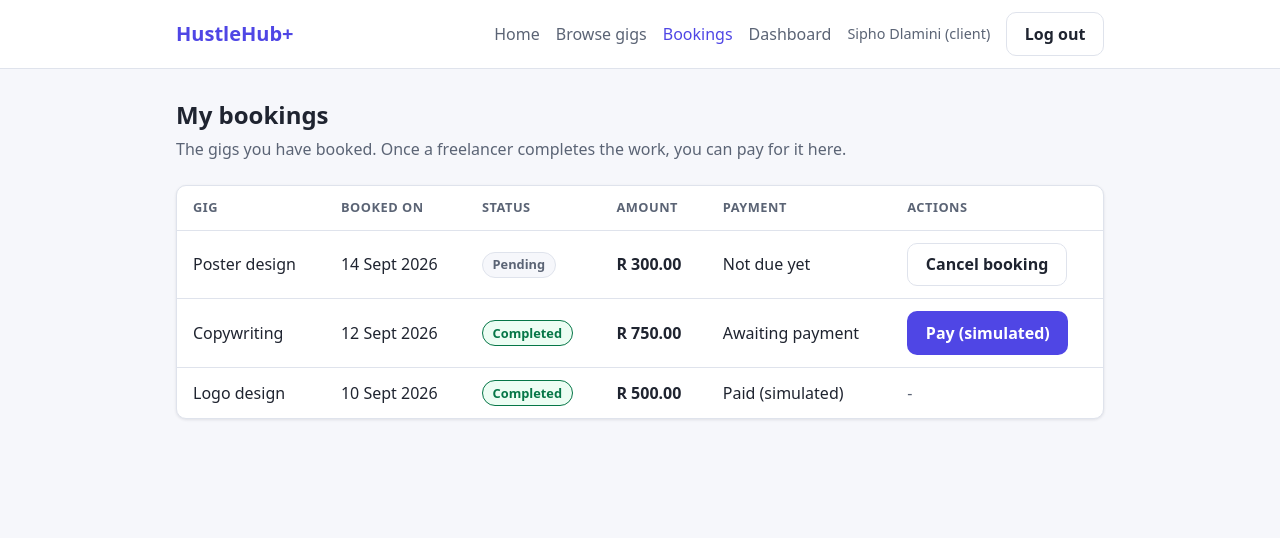
it: BookingsPage › as a client › pays for a completed booking after confirming, then shows it as paid
Expected: the text "Copywriting" is shown, [193,322,283,344]
What coordinates should you click on to do the following:
click the button "Pay (simulated)"
I would click on:
 (988, 333)
Its box is [907,311,1068,355].
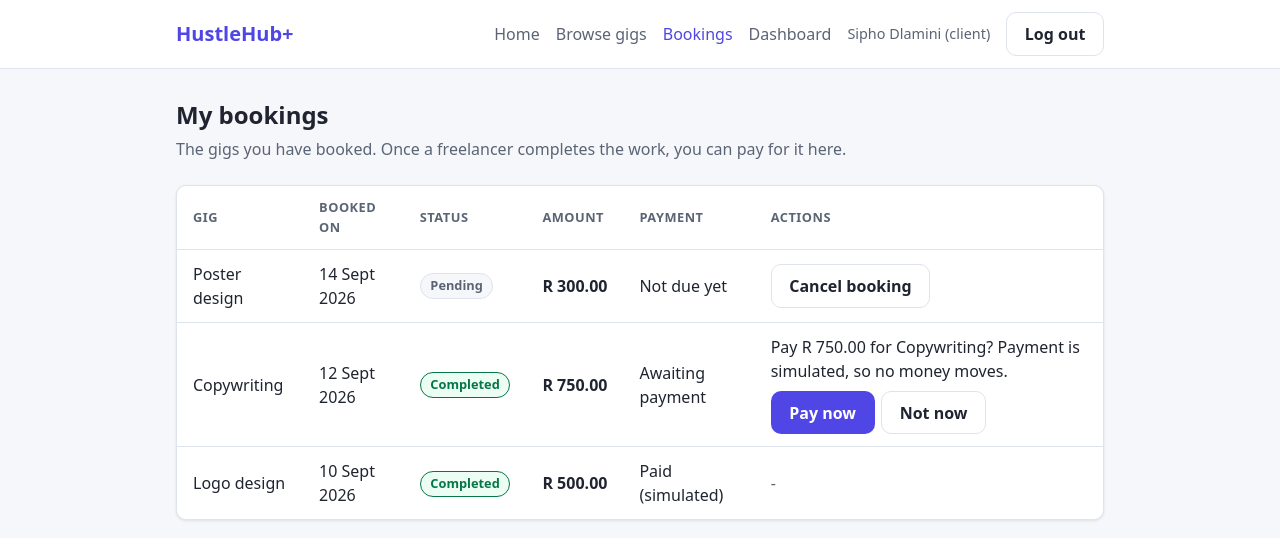
What coordinates should you click on to do the following:
click the button "Pay now"
I would click on:
 (823, 413)
Its box is [771,391,875,434].
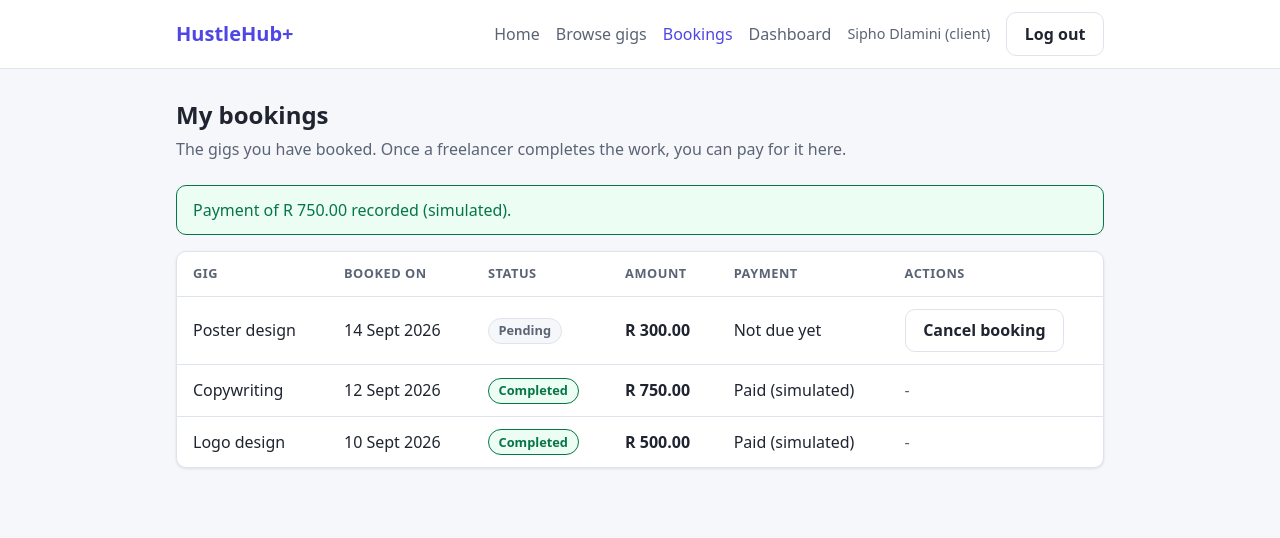
Expected: the button "Pay (simulated)" is not shown
Expected: the message reads "Payment of R 750.00 recorded (simulated).", [193,199,511,221]
Expected: the text "Paid (simulated)" in the row of "Copywriting" is shown, [734,380,854,402]
